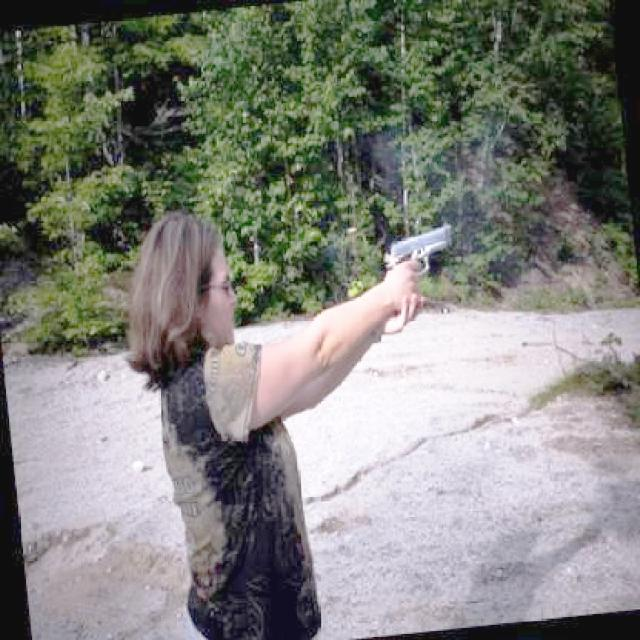Gun: (379, 214, 466, 296)
